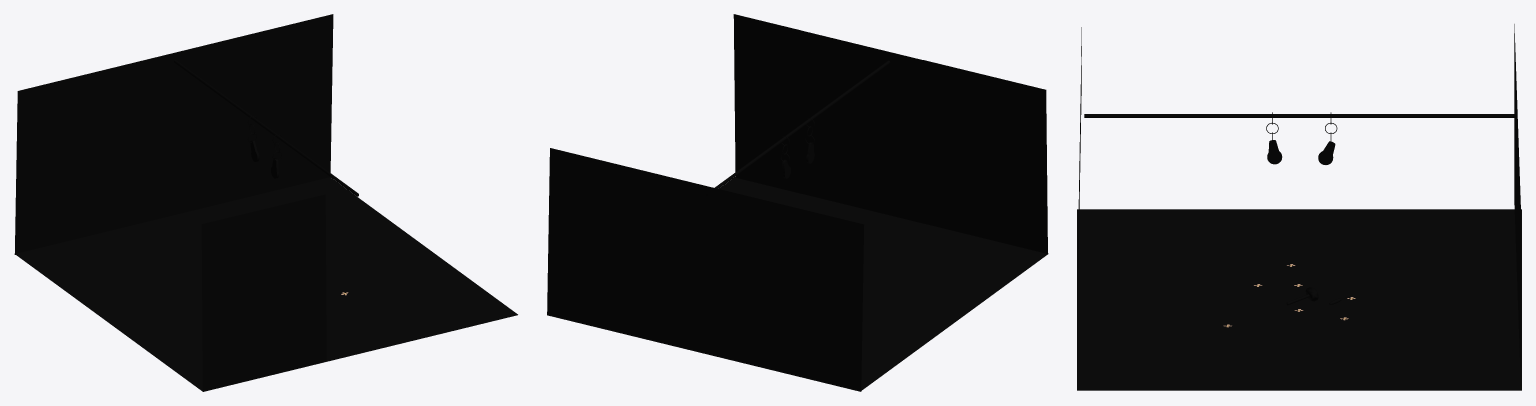
The model's file is FinalSketchFab.obj.
The picture shows the model from 3 angles, left to right: view 1: azimuth 30°, elevation 25°; view 2: azimuth 150°, elevation 25°; view 3: azimuth 270°, elevation 25°; orthographic projection. The views are drawn at different scales.
Parts seen in each view (by area): view 1: floor1, wall3, wall, wall6, wall7, pipe; view 2: wall, wall6, wall3, wall4, floor1, wall7, wall5, pipe; view 3: floor1, pipe, wall6, wall, wall7.
Boxes of the visible parts, x1,y1,x2,y2 form: floor1: [14, 177, 517, 391]; wall3: [201, 194, 326, 391]; wall: [14, 61, 141, 254]; wall6: [138, 30, 265, 223]; wall7: [262, 14, 333, 193]; pipe: [174, 59, 358, 196]; wall: [738, 194, 863, 391]; wall6: [614, 164, 740, 361]; wall3: [923, 60, 1047, 253]; wall4: [800, 30, 925, 223]; floor1: [547, 177, 1048, 390]; wall7: [547, 148, 617, 331]; wall5: [733, 14, 802, 193]; pipe: [706, 60, 890, 196]; floor1: [1077, 209, 1521, 390]; pipe: [1084, 114, 1514, 117]; wall6: [1514, 95, 1520, 346]; wall: [1514, 24, 1520, 275]; wall7: [1514, 166, 1520, 385].
Bounding box in the file's own units: 22.16 × 11.2 × 22.95.
Materials: 8 (1 with a texture image).
